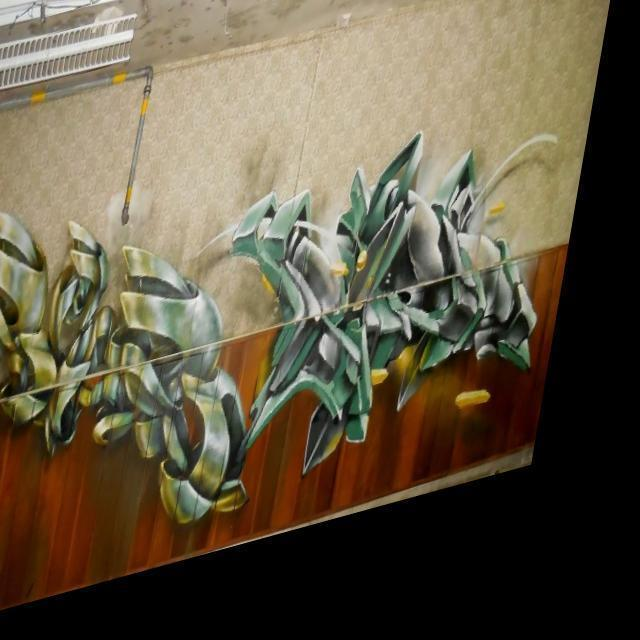nonspitting: (0, 127, 536, 529)
